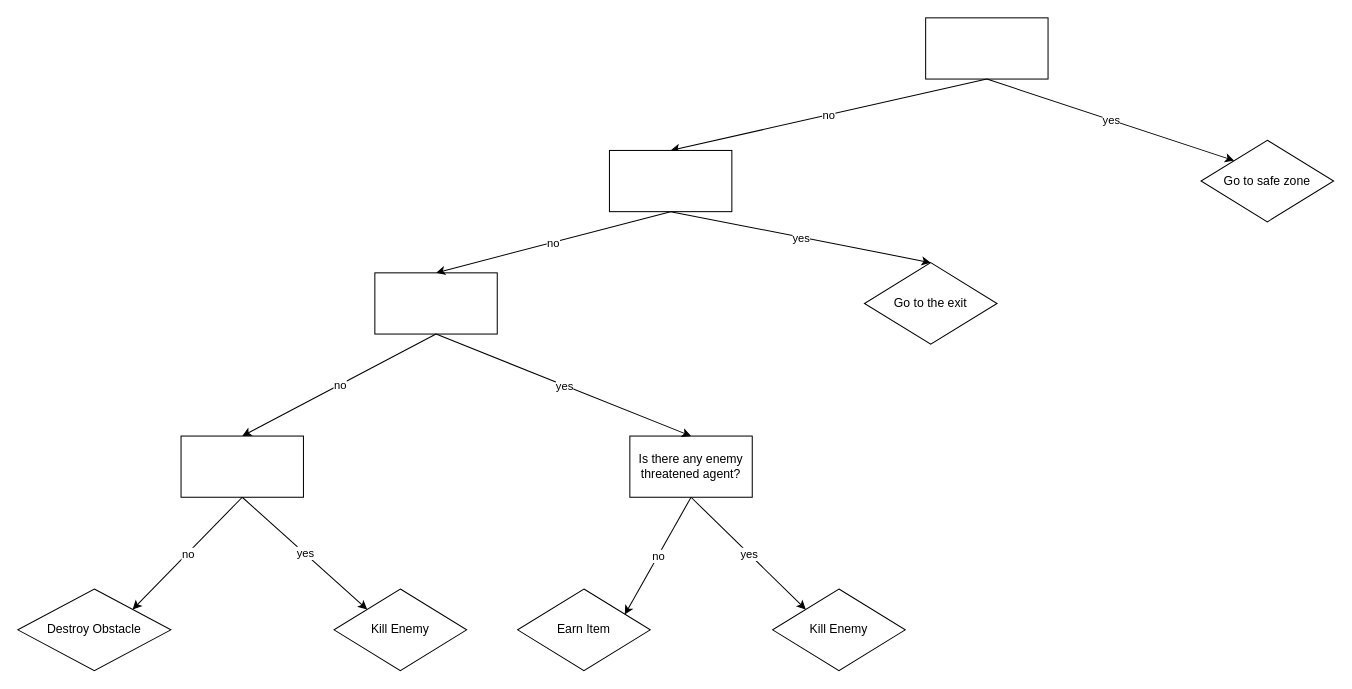
The diagram is 1352 pixels wide and 689 high, and some of its shapes have lost their labels. Each missing label, with the box of its shape:
Is agent in a safety place?: (925, 17, 1048, 79)
Is the exit available?: (608, 149, 732, 212)
Is there any enemy in the vision?: (180, 435, 303, 497)
Is there any item in the vision?: (374, 272, 497, 334)
